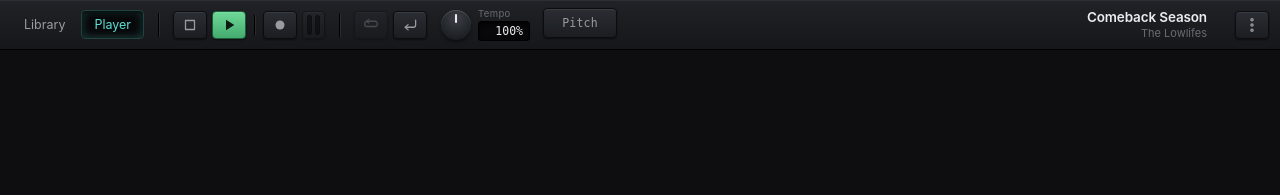
the song name in the header › shows the new name behind it as it is typed
Step 1. Click the button with aria-label "Song name and artist" → (1147, 17), box [624,6,1214,43]
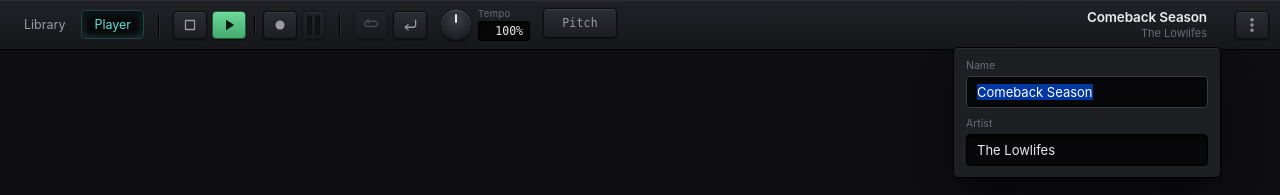
Step 2. Type "!" into the field labelled "Name" → (1087, 92), box [966,76,1208,108]
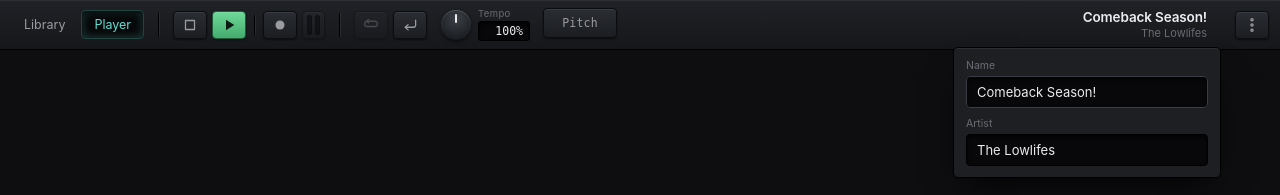
Expected: the text "Comeback Season!" is shown, [1083,9,1207,25]
